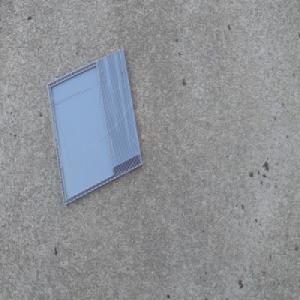PlasticPart: (45, 46, 143, 207)
